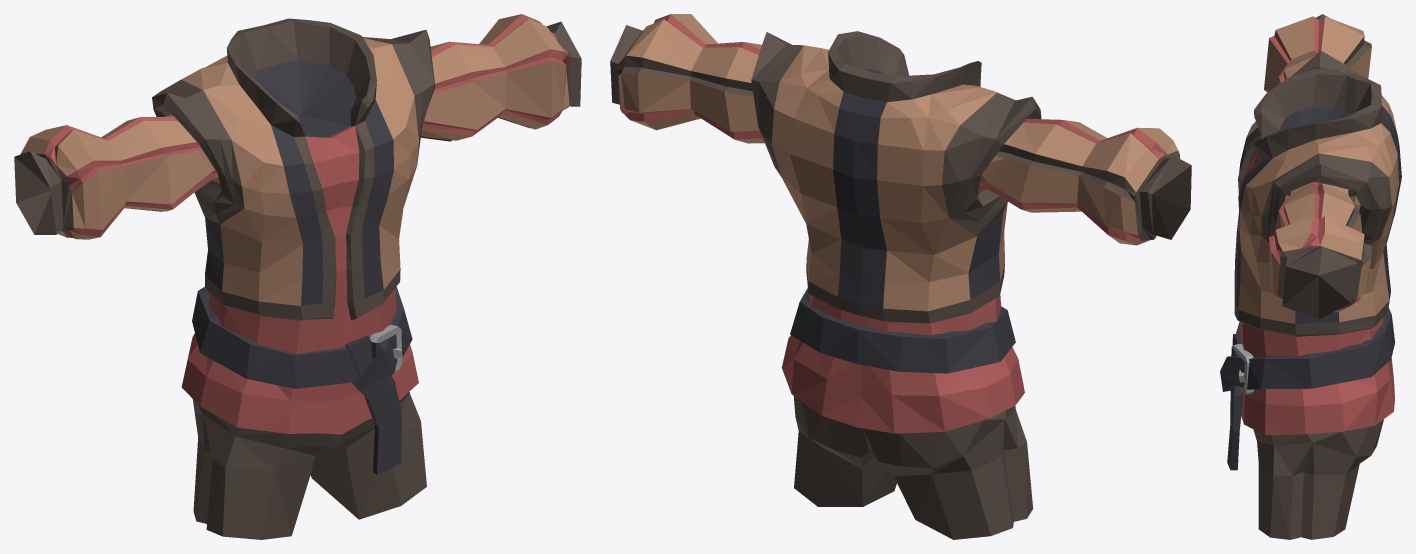
File: armorPerformerDisplay.fbx
3 views of the same model, side by side, from view 1: azimuth 30°, elevation 25°; view 2: azimuth 150°, elevation 25°; view 3: azimuth 270°, elevation 25° (orthographic). The views are drawn at different scales.
Parts seen in each view (by area): view 1: armorPerformerDisplay; view 2: armorPerformerDisplay; view 3: armorPerformerDisplay.
Boxes of the visible parts, bbox=[...] form: armorPerformerDisplay: bbox=[14, 14, 581, 539]; armorPerformerDisplay: bbox=[610, 14, 1191, 539]; armorPerformerDisplay: bbox=[1220, 14, 1401, 539].
Bounding box in the file's own units: 1.85 × 1.53 × 0.6125.
